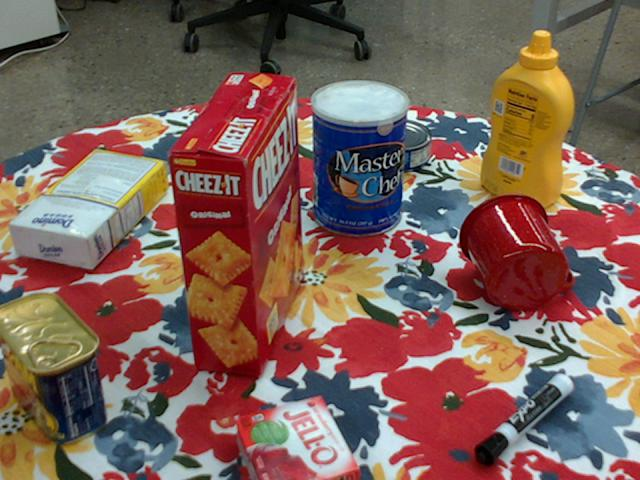cracker_box: (163, 72, 299, 377)
gelatin_box: (235, 395, 363, 479)
large_marker: (477, 372, 575, 463)
master_chef_can: (311, 80, 409, 237)
mug: (458, 192, 573, 310)
mustard_bottle: (479, 32, 572, 208)
potted_meat_can: (0, 291, 105, 443)
sugar_box: (9, 150, 167, 270)
tomato_soup_can: (237, 74, 295, 174)
tuna_fish_can: (365, 120, 434, 173)
